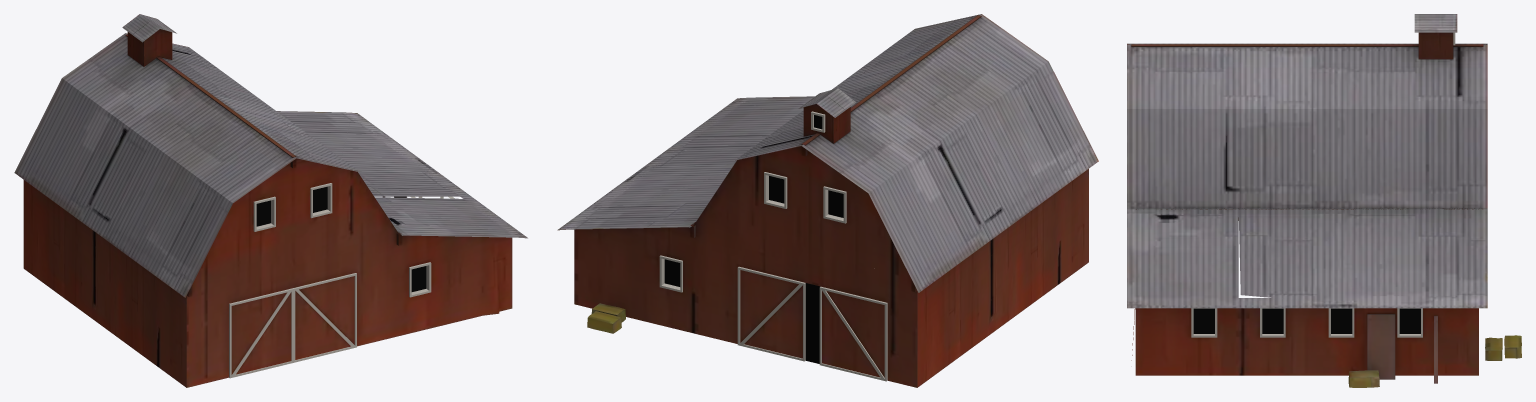
3 views of the same model, side by side, from view 1: azimuth 30°, elevation 25°; view 2: azimuth 150°, elevation 25°; view 3: azimuth 270°, elevation 25° (orthographic). The views are drawn at different scales.
Parts seen in each view (by area): view 1: body0_model0_lod0_mesh0; view 2: body0_model0_lod0_mesh0; view 3: body0_model0_lod0_mesh0.
Part boxes in pixels (left/top/right/bottom): body0_model0_lod0_mesh0: left=14, top=14, right=527, bottom=387; body0_model0_lod0_mesh0: left=557, top=14, right=1098, bottom=387; body0_model0_lod0_mesh0: left=1127, top=14, right=1521, bottom=387.
Bounding box in the file's own units: 50.44 × 32 × 46.01.
Materials: 1 (1 with a texture image).
